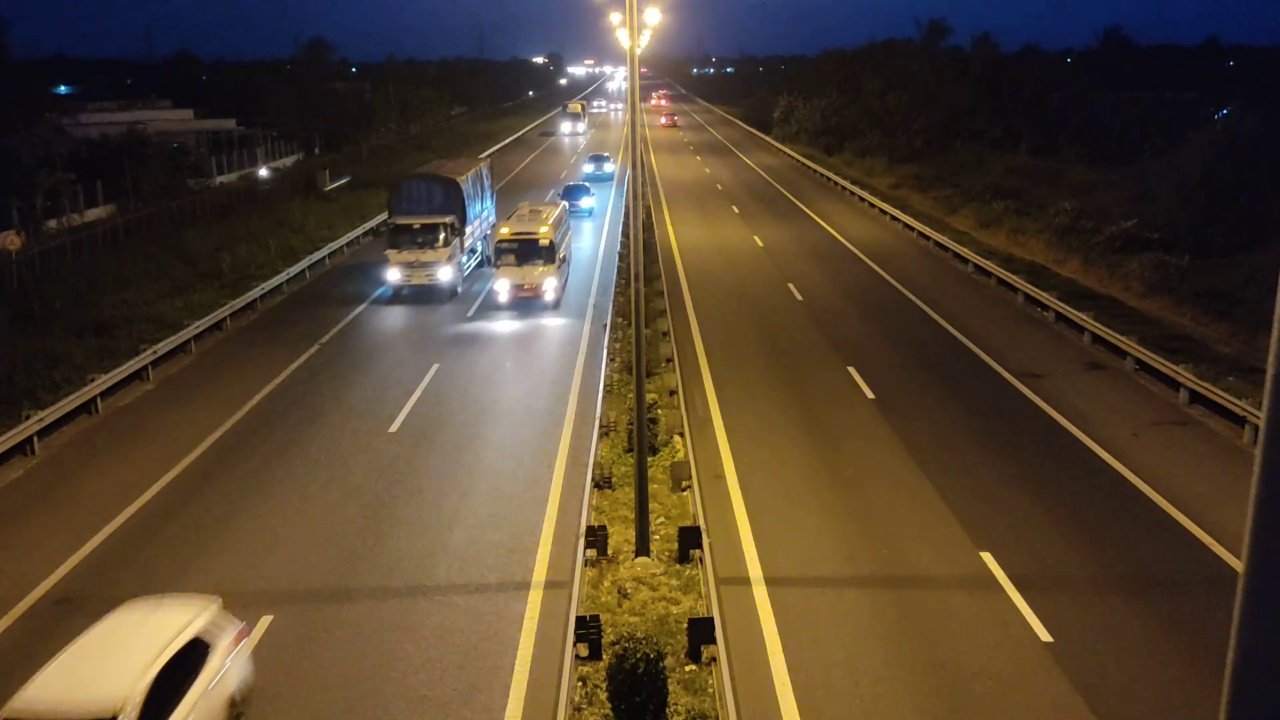bus: (493, 197, 574, 310)
car: (2, 591, 261, 718), (558, 181, 596, 216), (581, 153, 616, 181)
truck: (381, 155, 497, 303)
